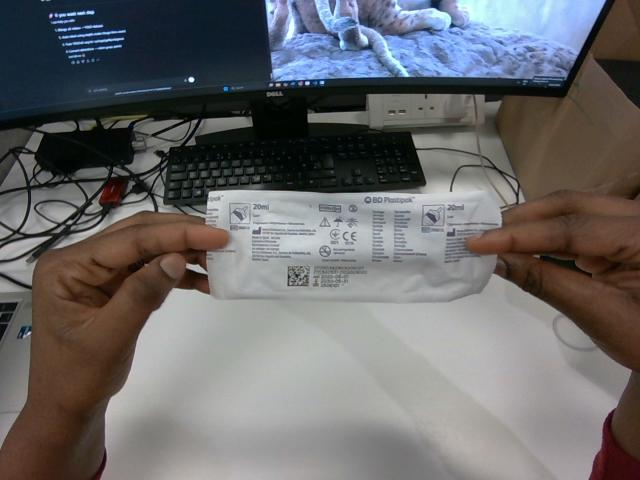syringe: (207, 190, 500, 302)
